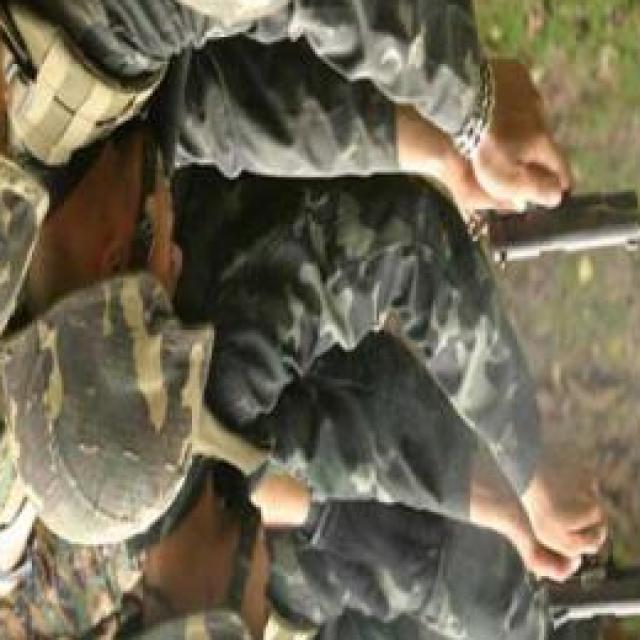pistol: (475, 103, 640, 271), (524, 519, 640, 640)
